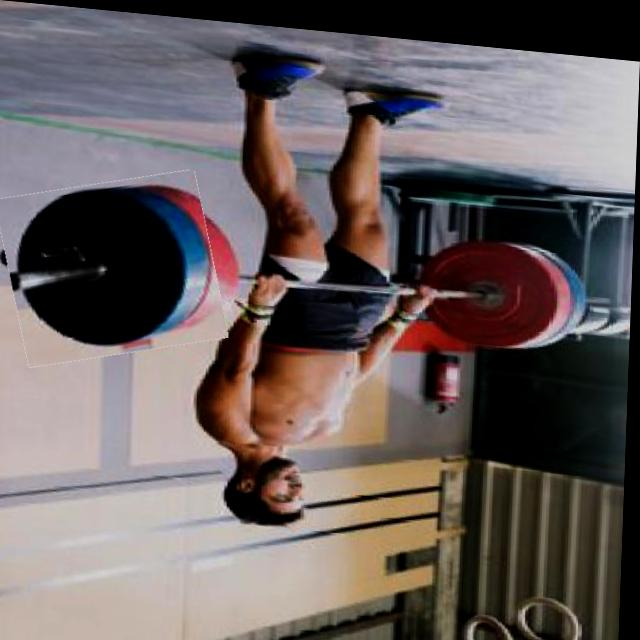barbell: (1, 164, 228, 372)
